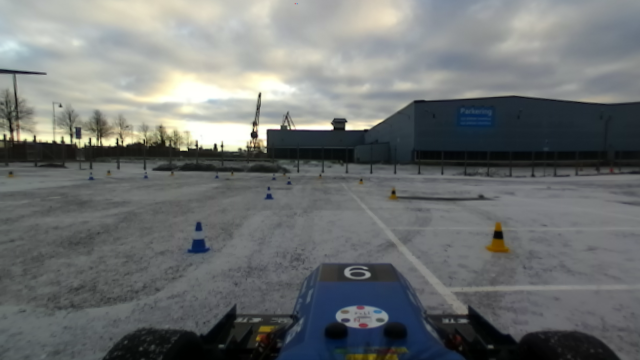blue: (187, 220, 210, 255)
yellow: (484, 219, 513, 256)
